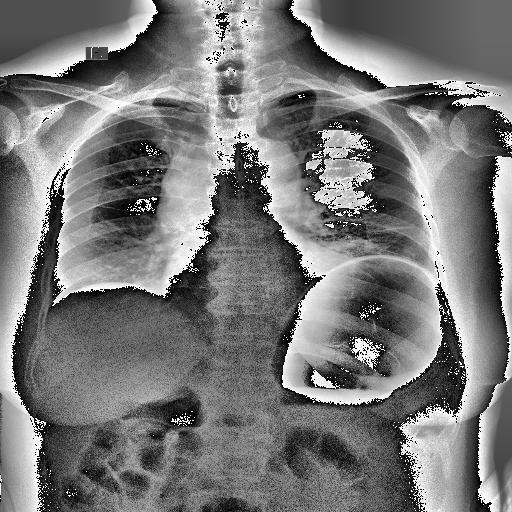0- Aortic enlargement: (236, 139, 302, 215), (232, 132, 302, 200), (232, 140, 300, 198)
11- Pleural thickening: (144, 98, 206, 112)
13- Pulmonary fibrosis: (375, 224, 416, 232), (376, 226, 414, 232), (374, 226, 418, 230)
7- Lung Opacity: (160, 148, 226, 254)
9- Other lesion: (157, 143, 209, 240)
